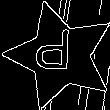P_S: (40, 30, 80, 82)
